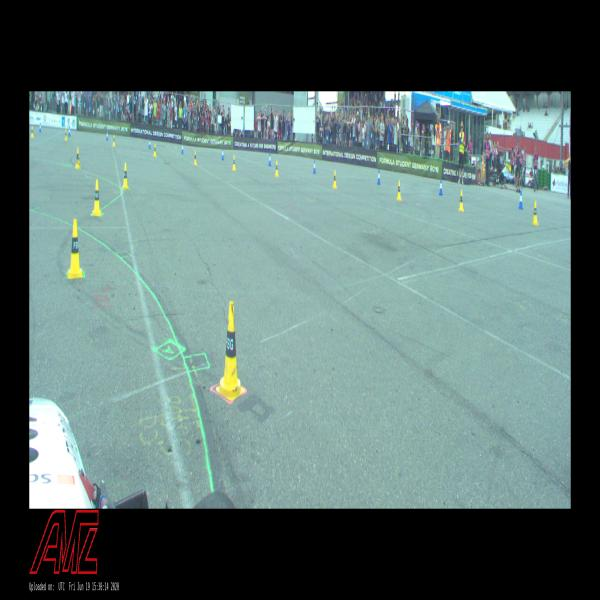blue_cone: (518, 190, 523, 209), (439, 179, 443, 195), (268, 153, 272, 166), (313, 160, 316, 174), (181, 142, 184, 154), (378, 168, 380, 185), (106, 130, 109, 140), (68, 126, 71, 136), (222, 147, 224, 160), (149, 138, 151, 149), (39, 122, 41, 132)
yellow_cone: (216, 301, 244, 400), (68, 219, 82, 277), (92, 179, 102, 216), (122, 163, 129, 189), (532, 201, 538, 225), (75, 147, 81, 169), (458, 190, 464, 212), (397, 181, 401, 200), (333, 170, 337, 189), (275, 160, 279, 177), (232, 155, 236, 170), (153, 144, 157, 157), (194, 150, 197, 166), (112, 134, 116, 146), (64, 129, 68, 141), (31, 126, 34, 137)
